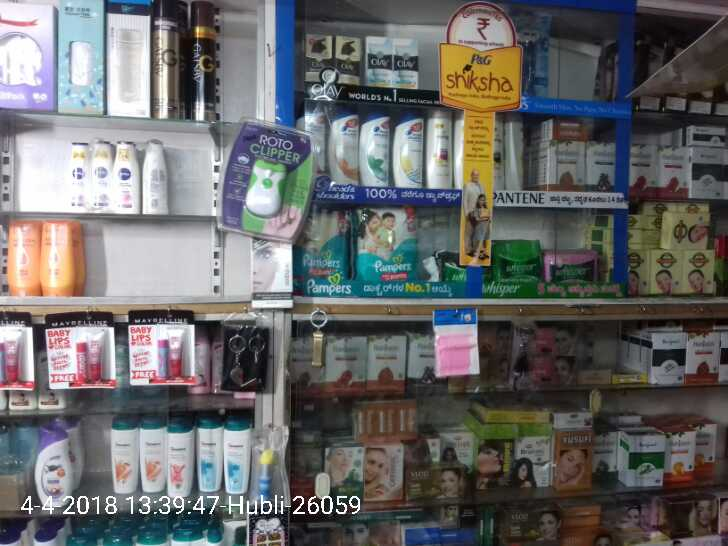venus: (522, 7, 552, 96)
